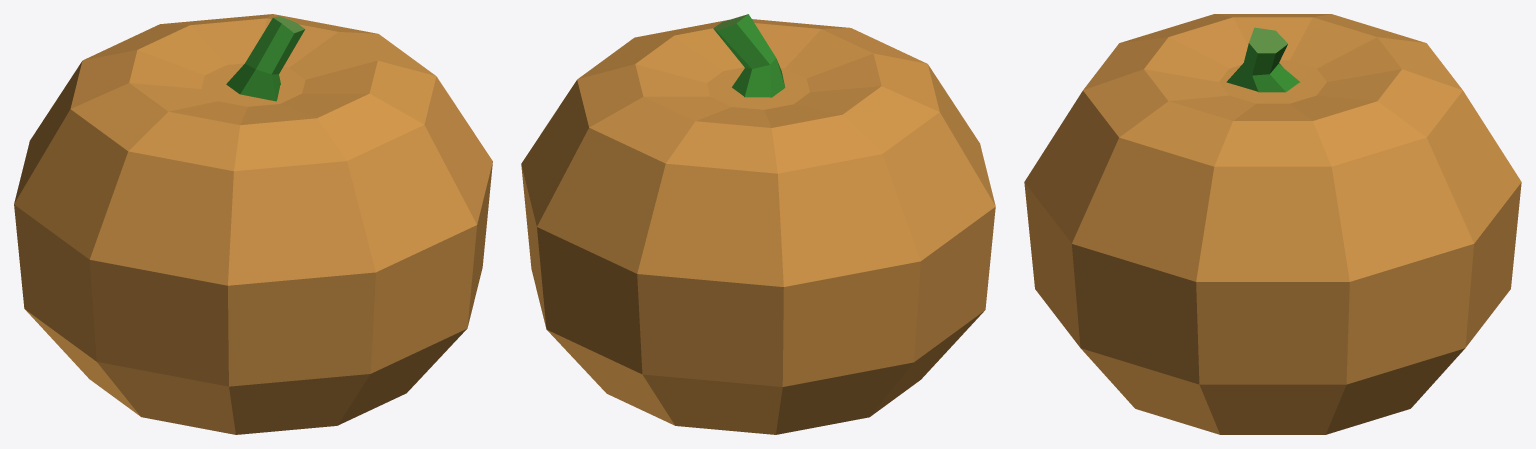
The model's file is pumpkin_1_simple_mat.fbx.
The picture shows the model from 3 angles, left to right: view 1: azimuth 30°, elevation 25°; view 2: azimuth 150°, elevation 25°; view 3: azimuth 270°, elevation 25°; orthographic projection. The views are drawn at different scales.
Visible parts, largest first — view 1: pumpkin_1_simple_mat; view 2: pumpkin_1_simple_mat; view 3: pumpkin_1_simple_mat.
Boxes of the visible parts, x1,y1,x2,y2 form: pumpkin_1_simple_mat: (14,14,492,434); pumpkin_1_simple_mat: (521,14,995,434); pumpkin_1_simple_mat: (1024,14,1521,434).
Size of the model in its own units: 225 by 183 by 237.
